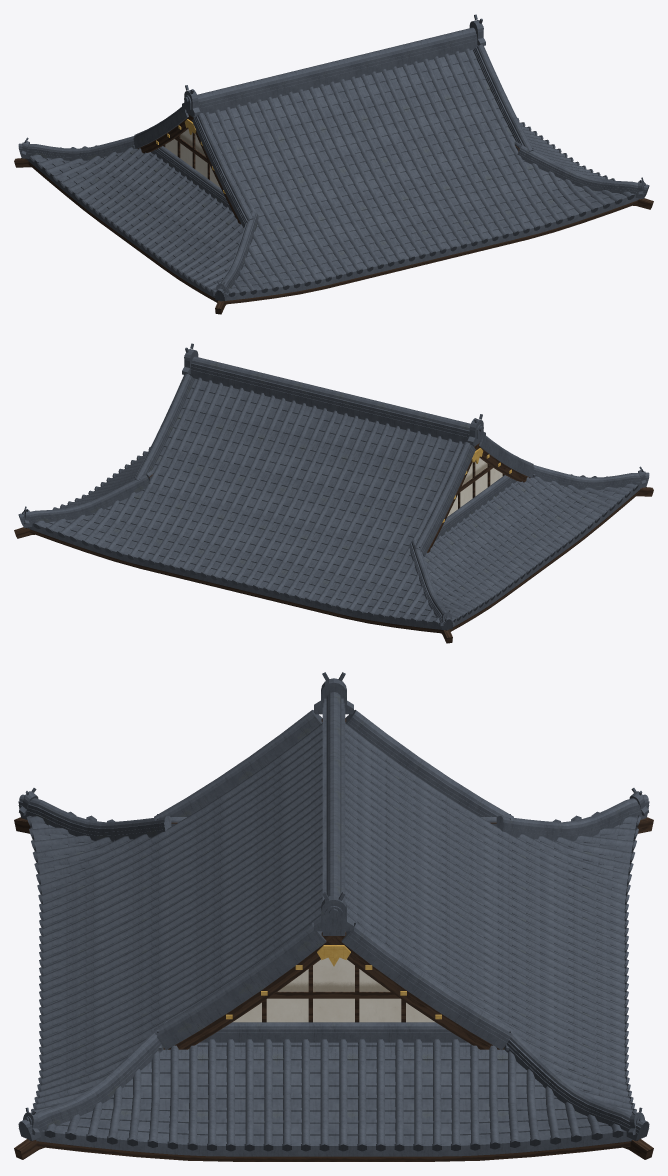
Rendered from HO_Roof_Irimoya_Large.fbx.
The picture shows the model from 3 angles, top to bottom: view 1: azimuth 30°, elevation 25°; view 2: azimuth 150°, elevation 25°; view 3: azimuth 270°, elevation 25°; orthographic projection. The views are drawn at different scales.
Visible parts, largest first — view 1: HO_Roof_Irimoya_Large_TilesBack, HO_Roof_Irimoya_Large_TilesFront, HO_Roof_Irimoya_Large_Frame; view 2: HO_Roof_Irimoya_Large_TilesFront, HO_Roof_Irimoya_Large_TilesBack, HO_Roof_Irimoya_Large_Frame; view 3: HO_Roof_Irimoya_Large_TilesBack, HO_Roof_Irimoya_Large_TilesFront, HO_Roof_Irimoya_Large_Frame.
Part boxes in pixels (box(x1,y1,x2,y2)): HO_Roof_Irimoya_Large_TilesBack: box(130, 18, 649, 301); HO_Roof_Irimoya_Large_TilesFront: box(18, 14, 537, 241); HO_Roof_Irimoya_Large_Frame: box(14, 114, 653, 314); HO_Roof_Irimoya_Large_TilesFront: box(18, 347, 537, 630); HO_Roof_Irimoya_Large_TilesBack: box(130, 343, 649, 570); HO_Roof_Irimoya_Large_Frame: box(14, 443, 653, 643); HO_Roof_Irimoya_Large_TilesBack: box(18, 672, 353, 1156); HO_Roof_Irimoya_Large_TilesFront: box(322, 672, 649, 1156); HO_Roof_Irimoya_Large_Frame: box(14, 718, 653, 1161).
Bounding box in the file's own units: 42.14 × 14.37 × 34.14.
